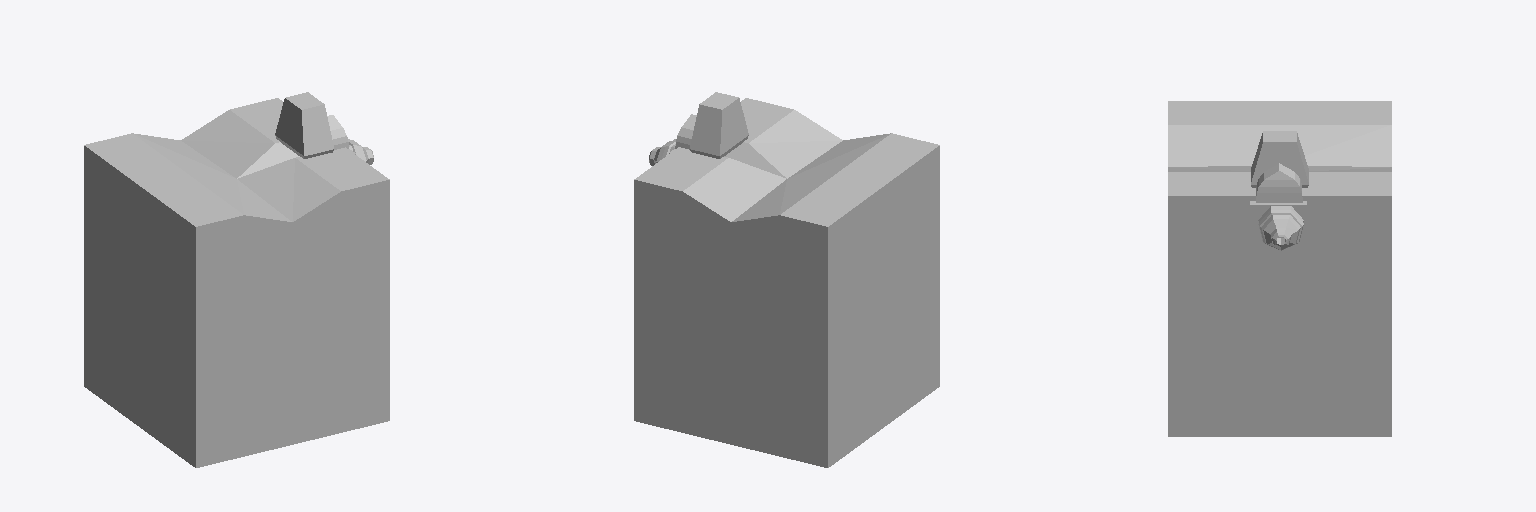
Rendered from TD_Waterwalkway_1fountain.obj.
The picture shows the model from 3 angles: view 1: azimuth 30°, elevation 25°; view 2: azimuth 150°, elevation 25°; view 3: azimuth 270°, elevation 25°; orthographic projection.
Visible parts, largest first — view 1: pCube19; view 2: pCube19; view 3: pCube19.
Boxes of the visible parts, box(x1,y1,x2,y2) form: pCube19: box(84, 92, 389, 467); pCube19: box(634, 92, 939, 467); pCube19: box(1168, 101, 1391, 436).
Bounding box in the file's own units: 2.4 × 2.82 × 2.